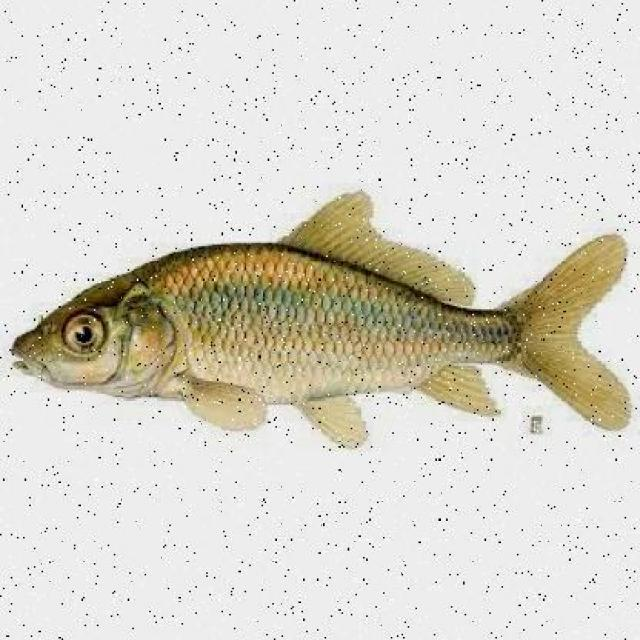ikan-mas: (11, 187, 632, 441)
